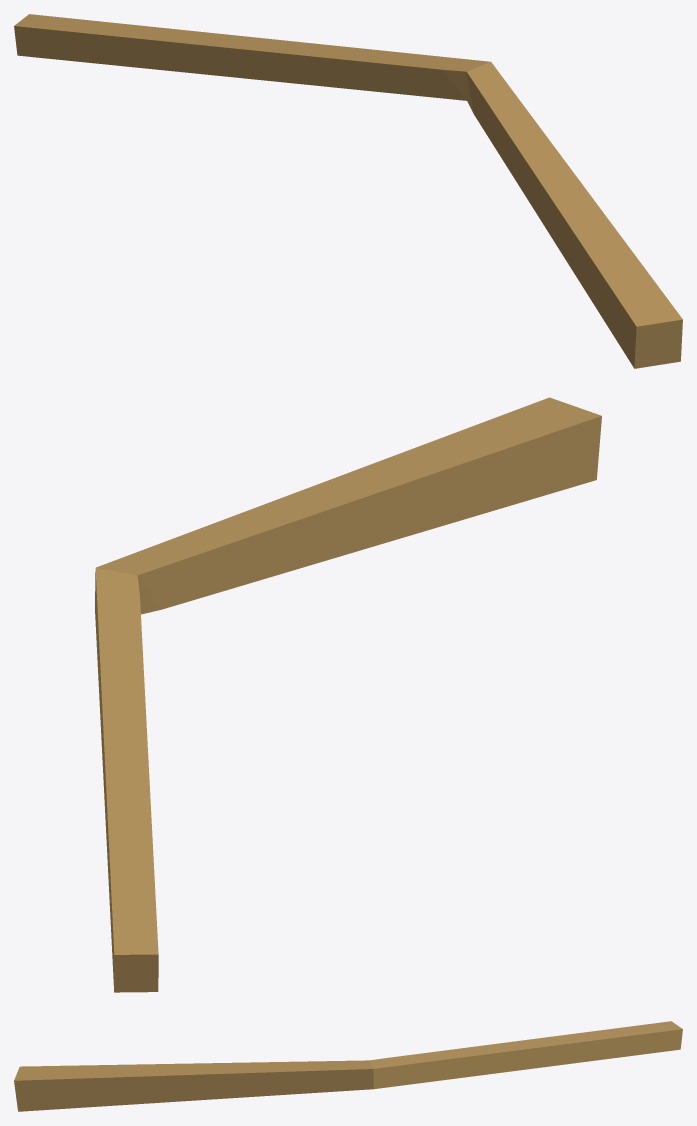
File: Detail_branch.001.fbx
3 renders of one model, top to bottom at view 1: azimuth 30°, elevation 25°; view 2: azimuth 150°, elevation 25°; view 3: azimuth 270°, elevation 25°, orthographic. The views are drawn at different scales.
Parts seen in each view (by area): view 1: Detail_branch.001; view 2: Detail_branch.001; view 3: Detail_branch.001.
Boxes of the visible parts, <box> form: Detail_branch.001: <box>14,14,682,368</box>; Detail_branch.001: <box>95,397,601,992</box>; Detail_branch.001: <box>14,1021,682,1111</box>.
Size of the model in its own units: 0.6245 by 0.2167 by 2.
